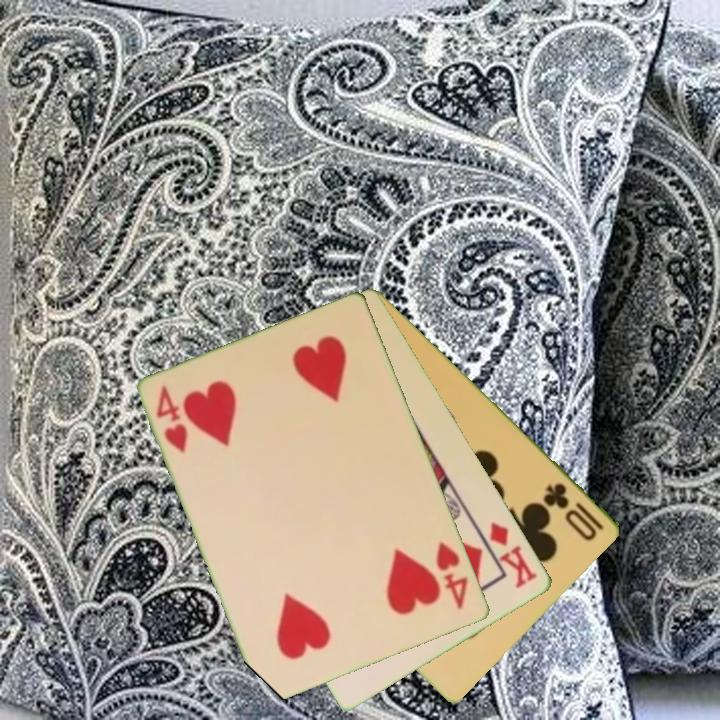10c: (540, 478, 608, 544)
4h: (433, 538, 472, 613), (153, 382, 191, 457)
Kd: (486, 518, 541, 592)
